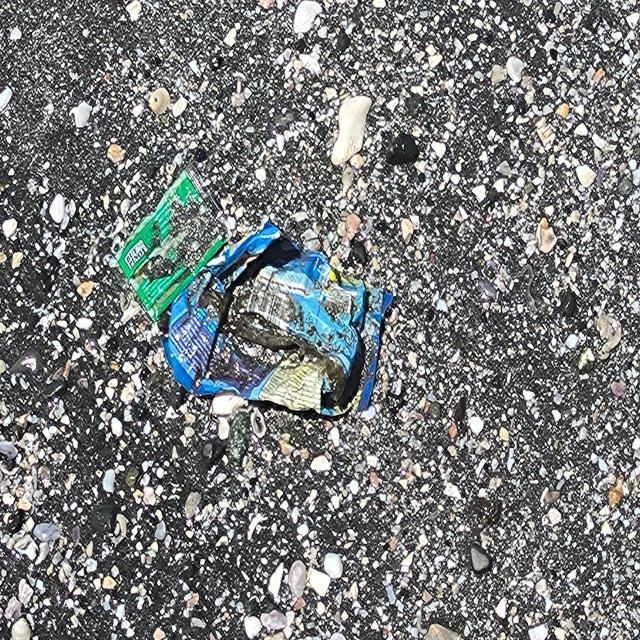plastic_waste: (121, 170, 399, 420)
